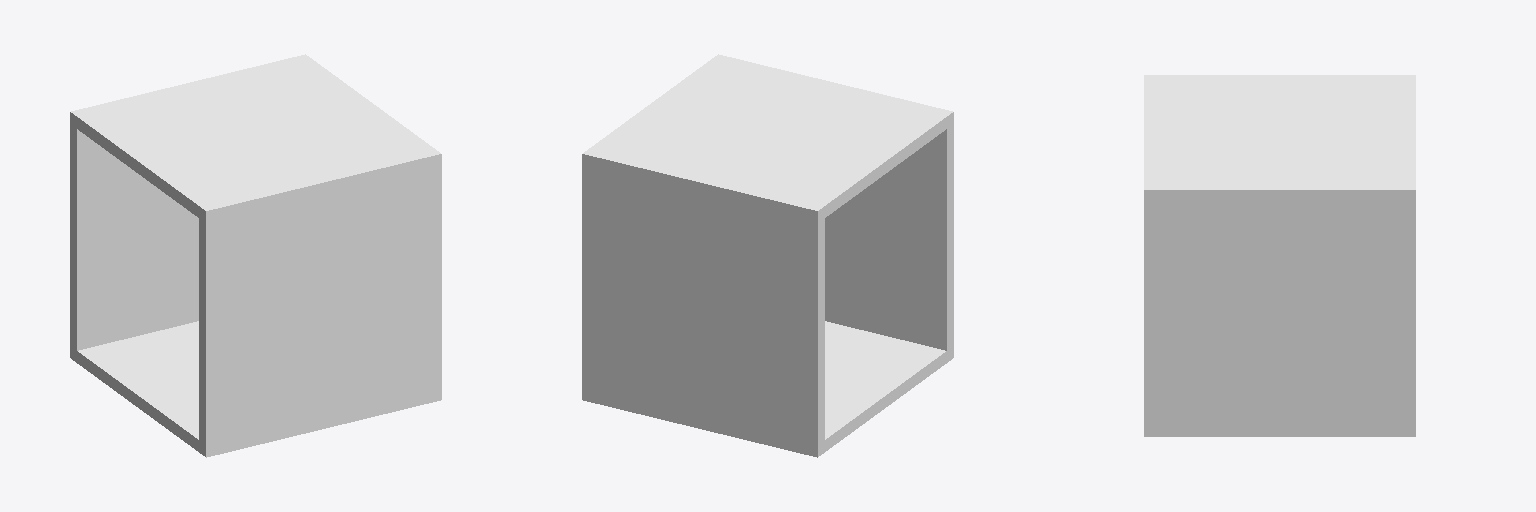
File: voidCube_guide.obj
3 renders of one model, left to right at view 1: azimuth 30°, elevation 25°; view 2: azimuth 150°, elevation 25°; view 3: azimuth 270°, elevation 25°, orthographic.
Parts seen in each view (by area): view 1: object 1; view 2: object 1; view 3: object 1.
Boxes of the visible parts, box(x1,y1,x2,y2) form: object 1: box(70, 54, 441, 457); object 1: box(582, 54, 953, 457); object 1: box(1144, 75, 1415, 436).
Bounding box in the file's own units: 4 × 4 × 4.